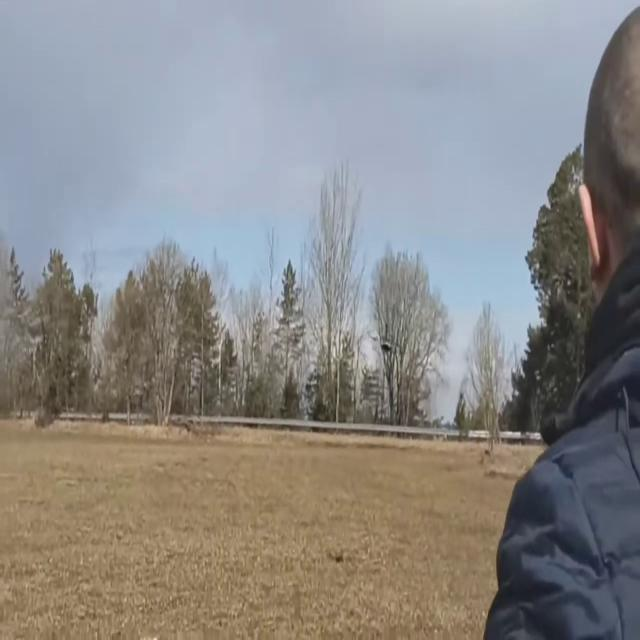Drons: (364, 323, 402, 357)
